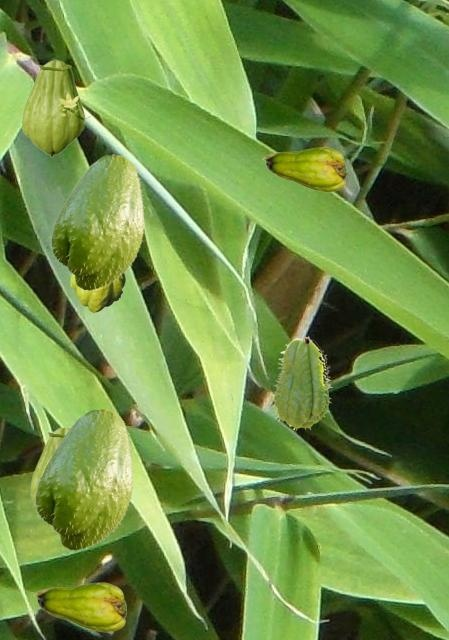sayote: (32, 408, 133, 551), (48, 154, 144, 291), (21, 60, 90, 156), (272, 336, 331, 430), (33, 582, 125, 631), (262, 147, 345, 191), (30, 427, 69, 501), (70, 274, 124, 311)
